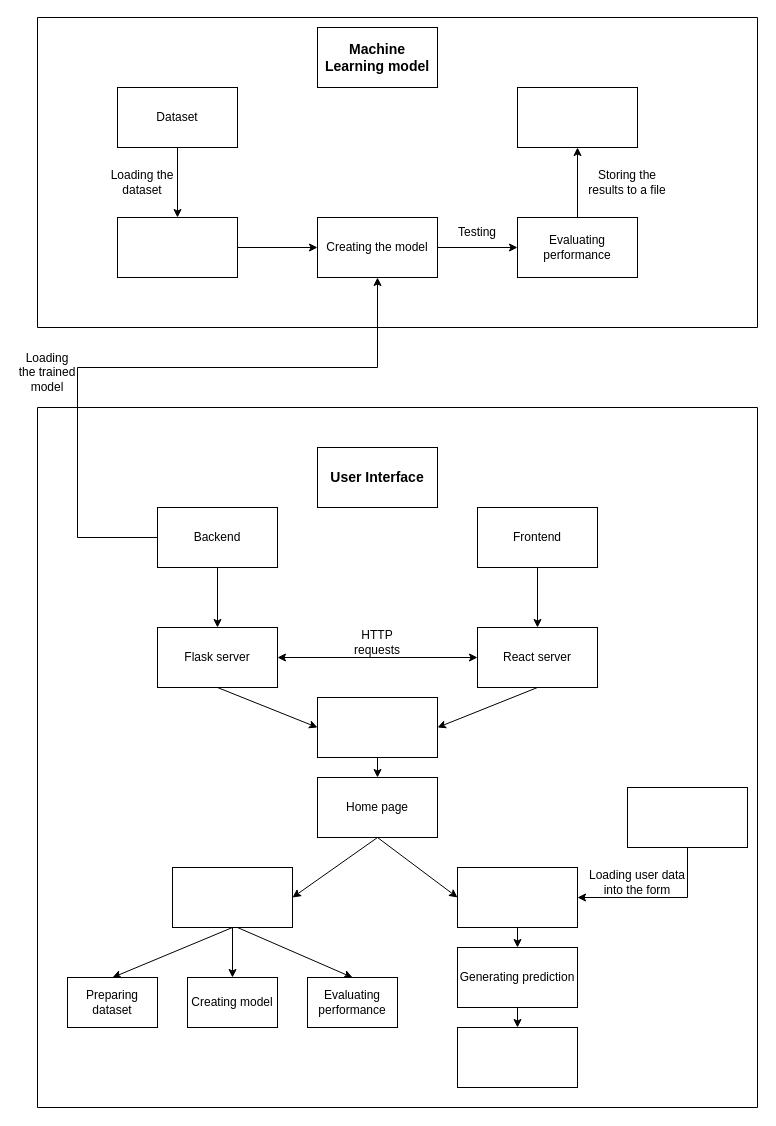
This 776x1126 diagram has some shape labels left out. The shapes that lost their labels are listed below. From the top down, each one's box as (x1, y1, x2, y2) in pixels, then its label:
(516, 86, 638, 148): testing_results.txt
(116, 216, 238, 278): Data analysis & preprocessing
(316, 696, 438, 758): Web App
(626, 786, 748, 848): User input
(172, 866, 292, 928): Software Engineer page
(456, 866, 578, 928): User page
(456, 1026, 578, 1088): Displaying results
